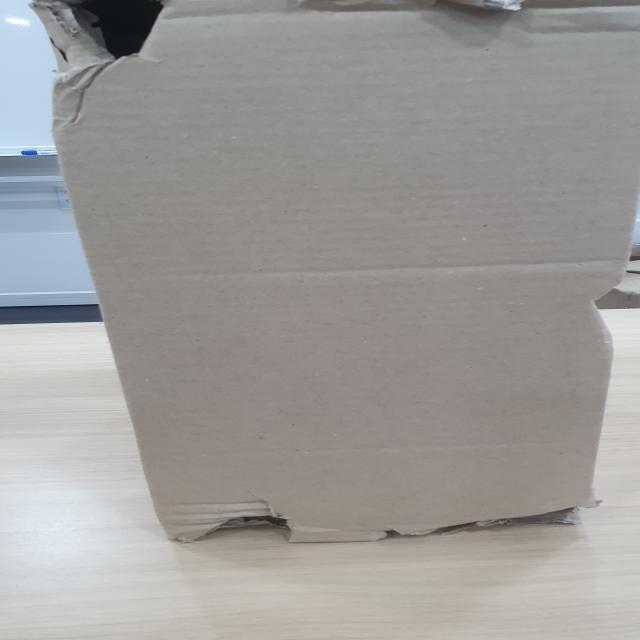hole: (40, 0, 203, 78), (575, 266, 639, 354), (396, 506, 580, 536), (199, 511, 301, 539)
